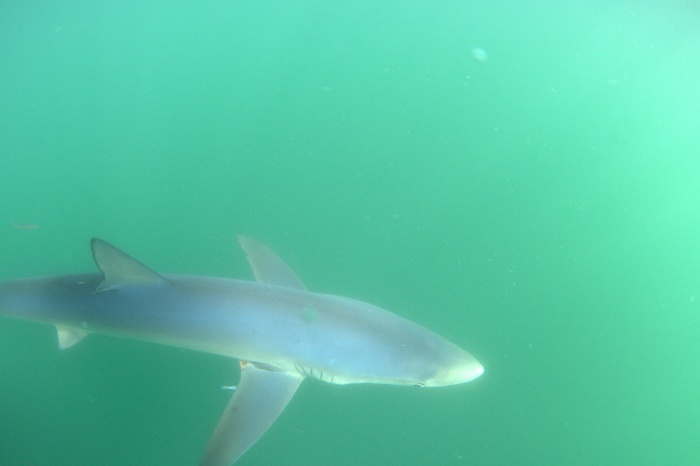Azul: (1, 213, 490, 465)
